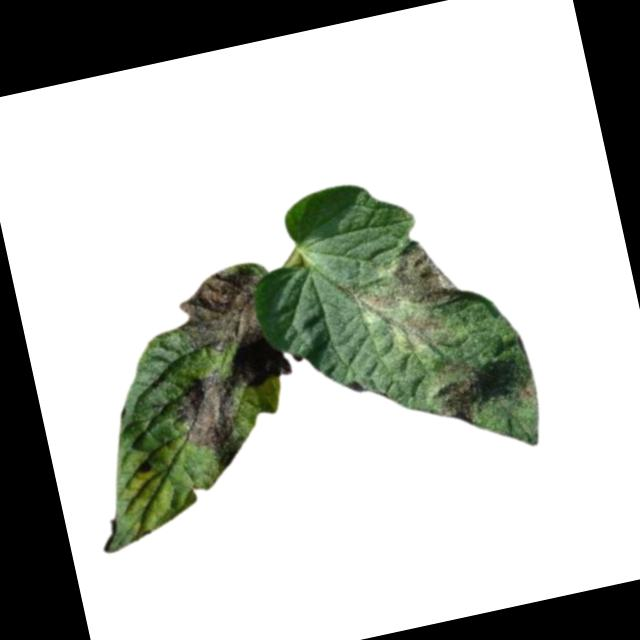Late_blight: (173, 257, 294, 399), (351, 233, 463, 321), (169, 367, 243, 453), (391, 304, 453, 357), (430, 375, 482, 431), (510, 377, 539, 407)
